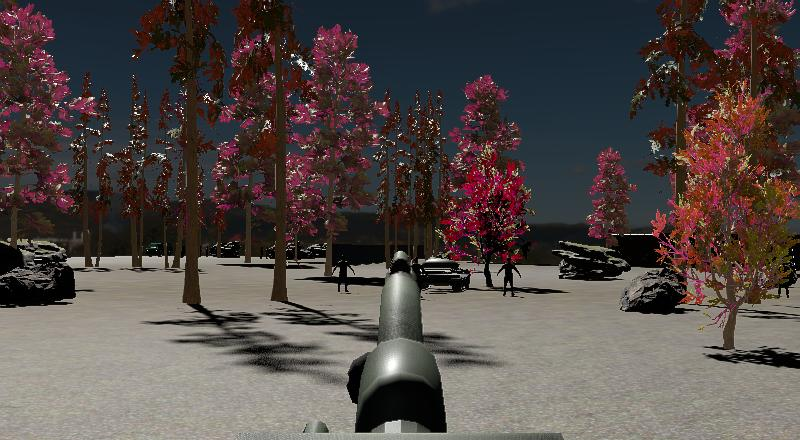Tank: (413, 252, 471, 294)
